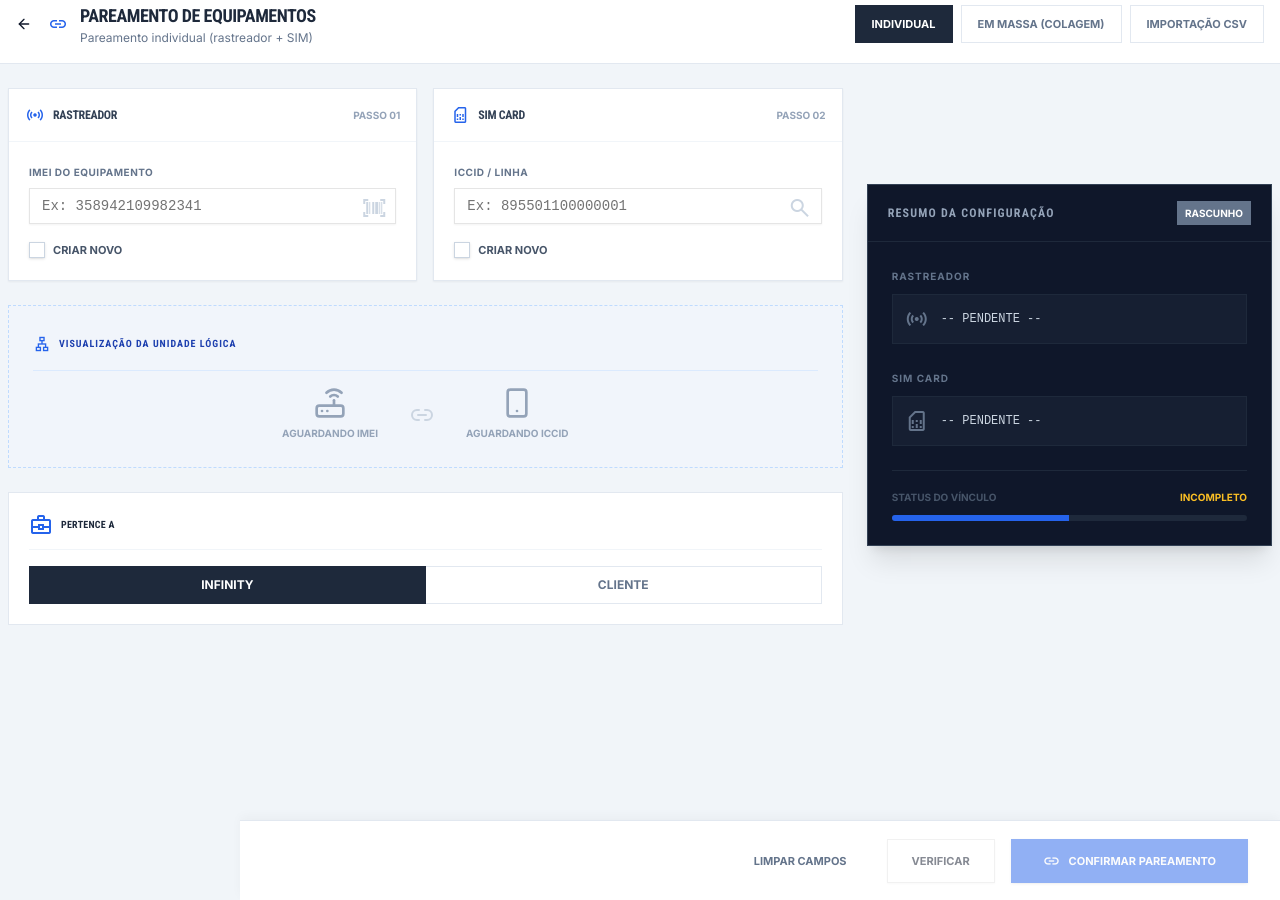
Test case: PareamentoPage — CRIAR NOVO rastreador (modo individual) › ao marcar CRIAR NOVO, exibe PERTENCE A UM LOTE e campos de marca/modelo
Click the checkbox named "criar novo" below "IMEI do Equipamento": (37, 250) [29,242,45,258]
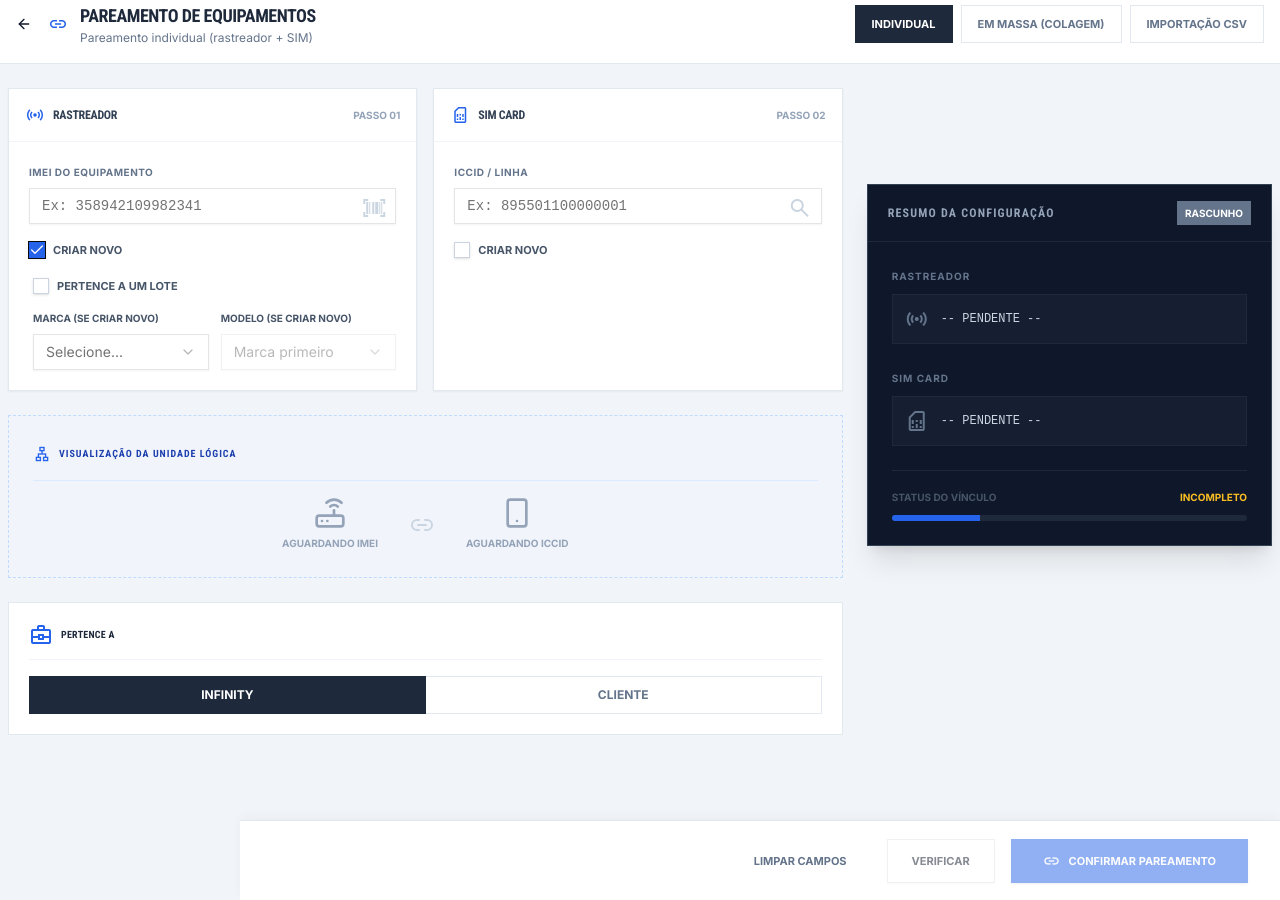
Now the checkbox named "pertence a um lote" next to "Pertence a um lote" is shown, box [33,278,49,294]
Now the text "Marca (se criar novo)" is shown, box [33,312,159,324]
Now the text "Modelo (se criar novo)" is shown, box [221,312,352,324]
